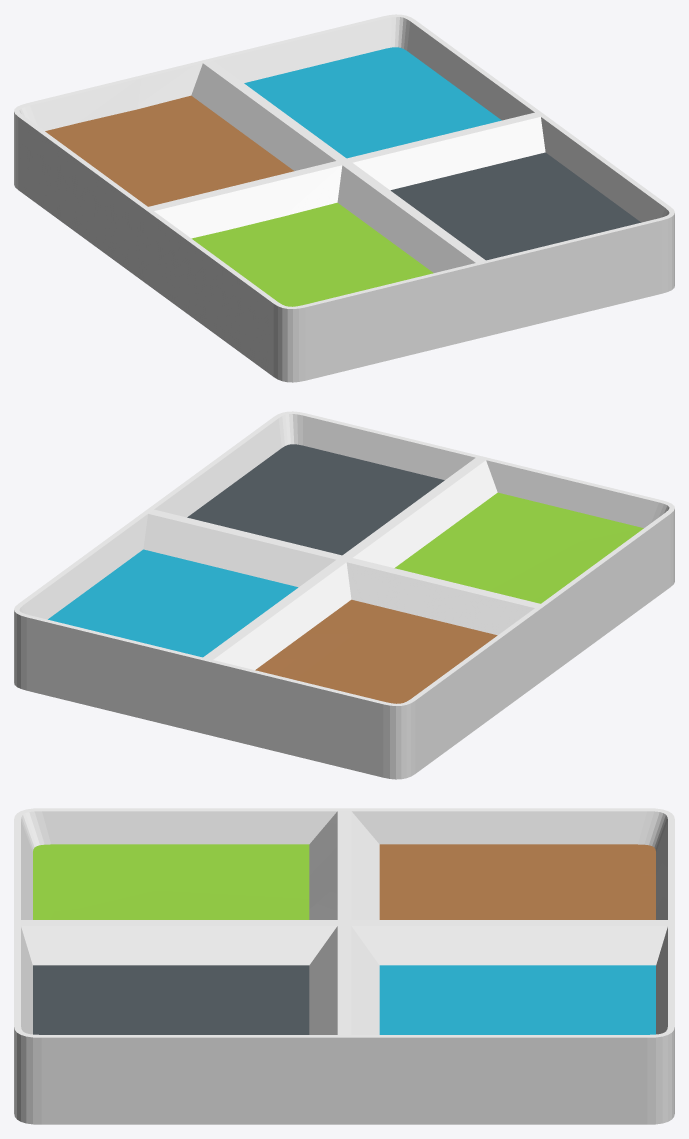
File: shape color 9.FBX
3 views of the same model, one above another, from view 1: azimuth 30°, elevation 25°; view 2: azimuth 150°, elevation 25°; view 3: azimuth 270°, elevation 25° (orthographic). The views are drawn at different scales.
Visible parts, largest first — view 1: Box001; view 2: Box001; view 3: Box001.
Boxes of the visible parts, left/top/right/bottom form: Box001: left=14, top=14, right=674, bottom=382; Box001: left=14, top=411, right=674, bottom=779; Box001: left=14, top=808, right=674, bottom=1124.
Size of the model in its own units: 147 by 25.93 by 179.
1 material, 1 textured.
